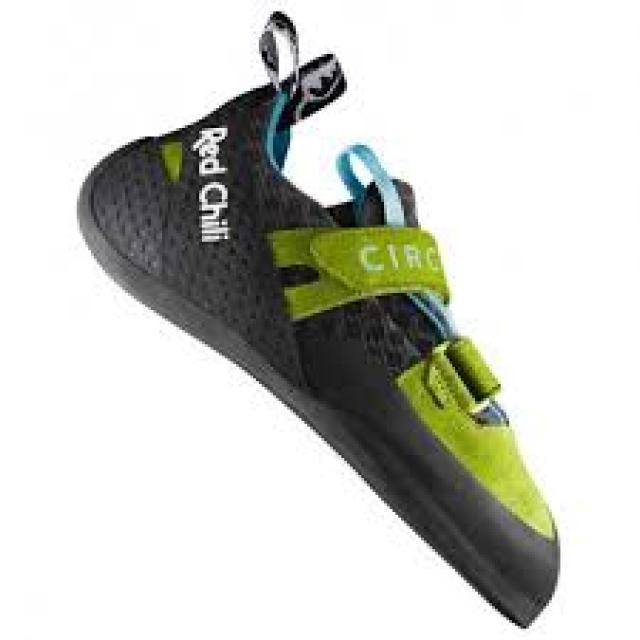climbing-shoes: (76, 11, 562, 629)
